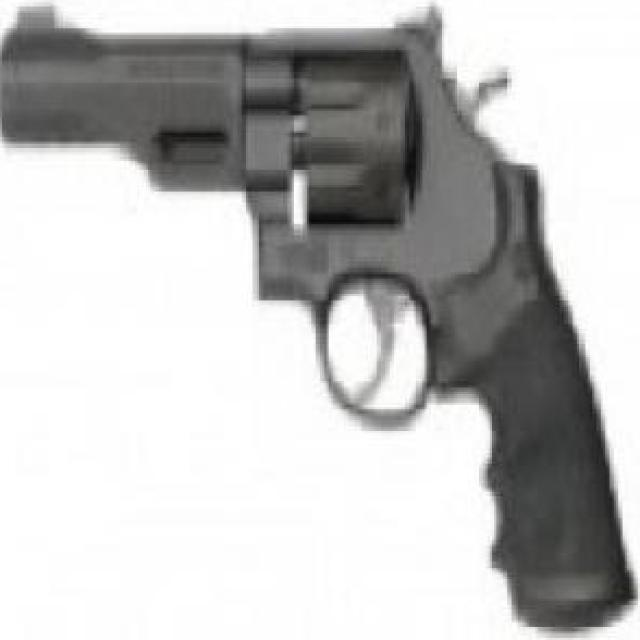pistol: (10, 6, 614, 622)
